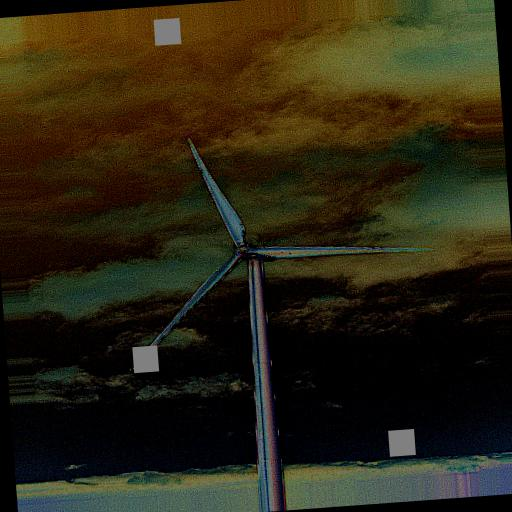wind turbine: (144, 136, 434, 478)
